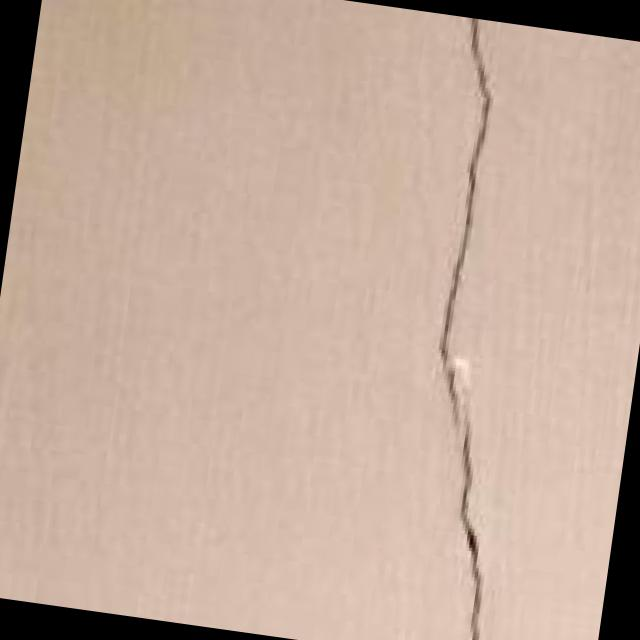crack: (359, 21, 588, 640)
